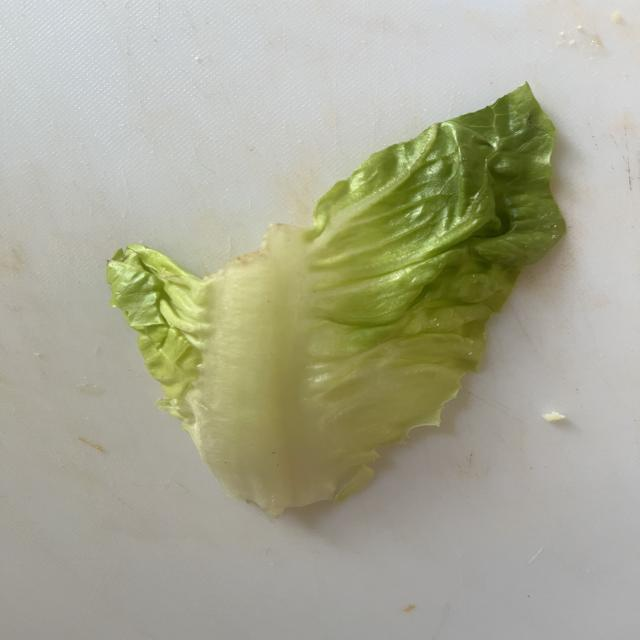lettuce: (108, 85, 564, 514)
